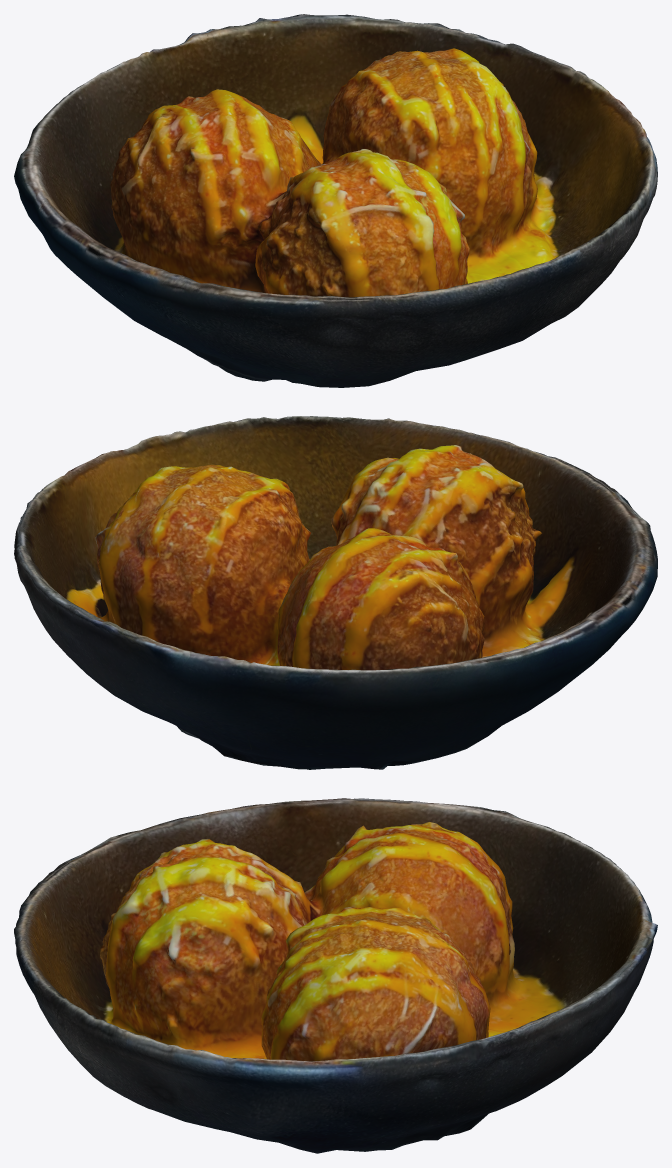
File: macAndCheese_1752071917275.glb
3 renders of one model, top to bottom at view 1: azimuth 30°, elevation 25°; view 2: azimuth 150°, elevation 25°; view 3: azimuth 270°, elevation 25°, orthographic.
Parts seen in each view (by area): view 1: 3DModel_Custom; view 2: 3DModel_Custom; view 3: 3DModel_Custom.
Part boxes in pixels (x1,y1,x2,y2): 3DModel_Custom: [14, 14, 657, 387]; 3DModel_Custom: [14, 416, 657, 769]; 3DModel_Custom: [14, 798, 657, 1153].
Size of the model in its own units: 0.1812 by 0.0705 by 0.1785.
Materials: 1 (1 with a texture image).
